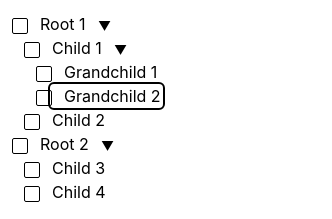
Test: keyboard › collapsing a parent moves focus off the hidden descendant
Click the text "Root 1" at (69, 24), box [28,14,110,34]
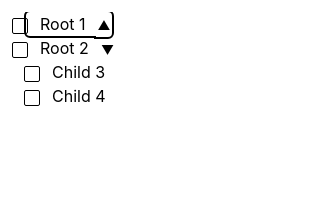
Check: the text "Grandchild 2" is gone
